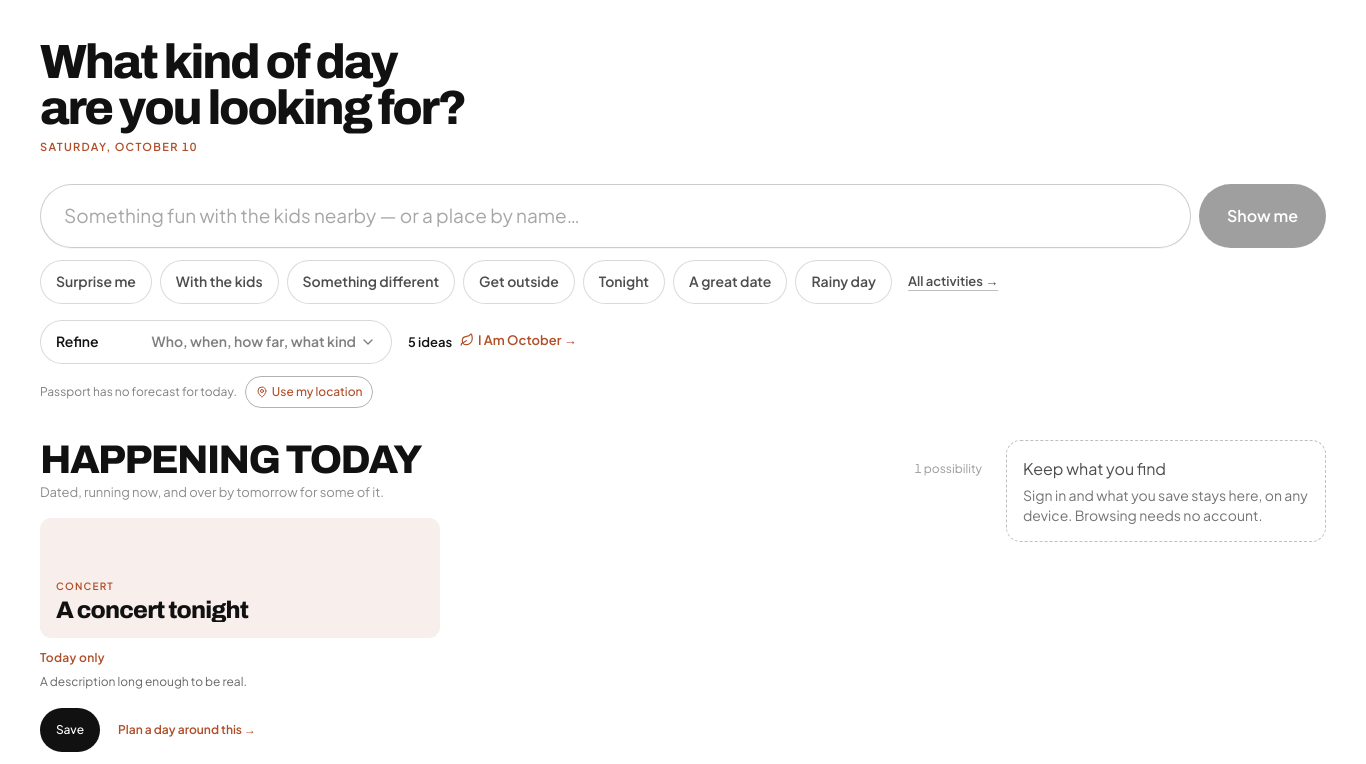
Test: what must not have changed › still finds a place by name — in the one box, answered by name
Type "Kalamoir" into the field with test id "ask-input" at x=616, y=216, box [40,184,1191,248]
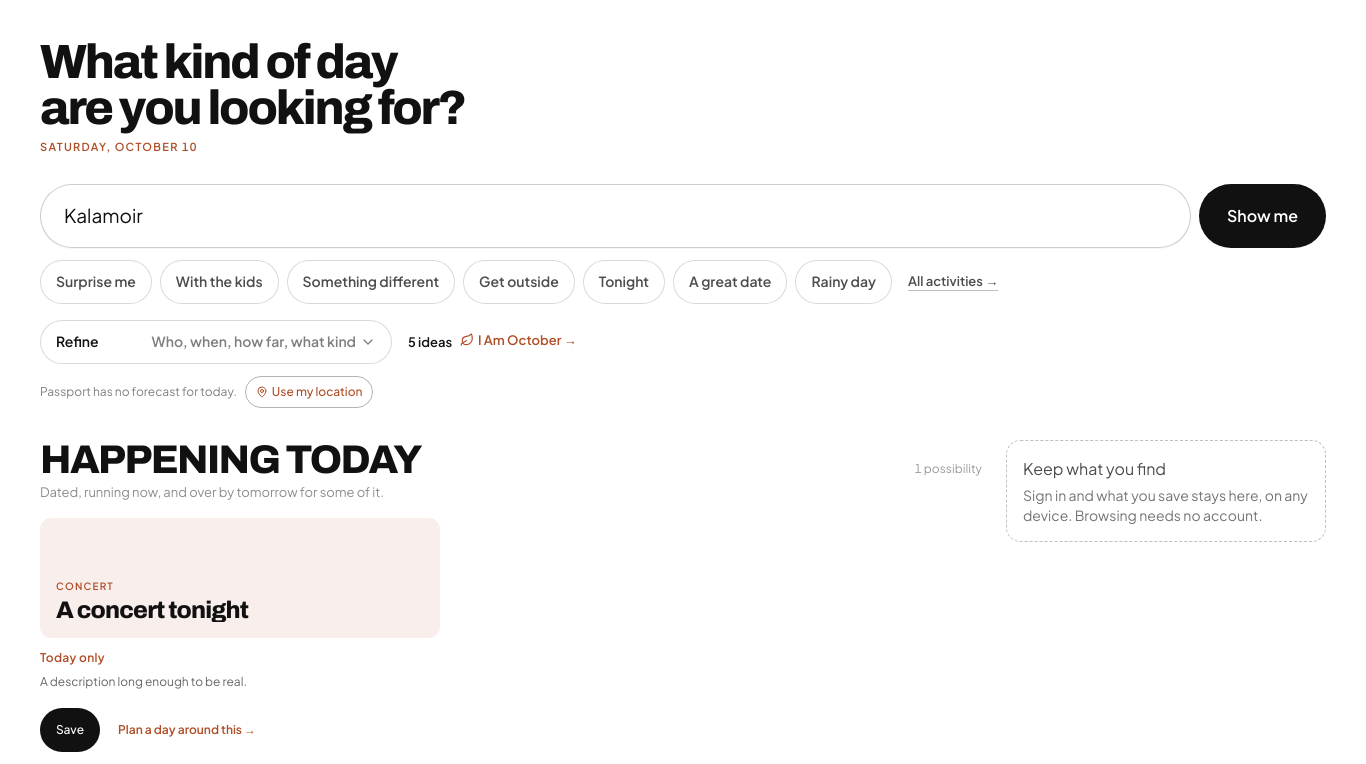
Click the button with test id "ask-submit" at x=1262, y=216, box [1199,184,1326,248]
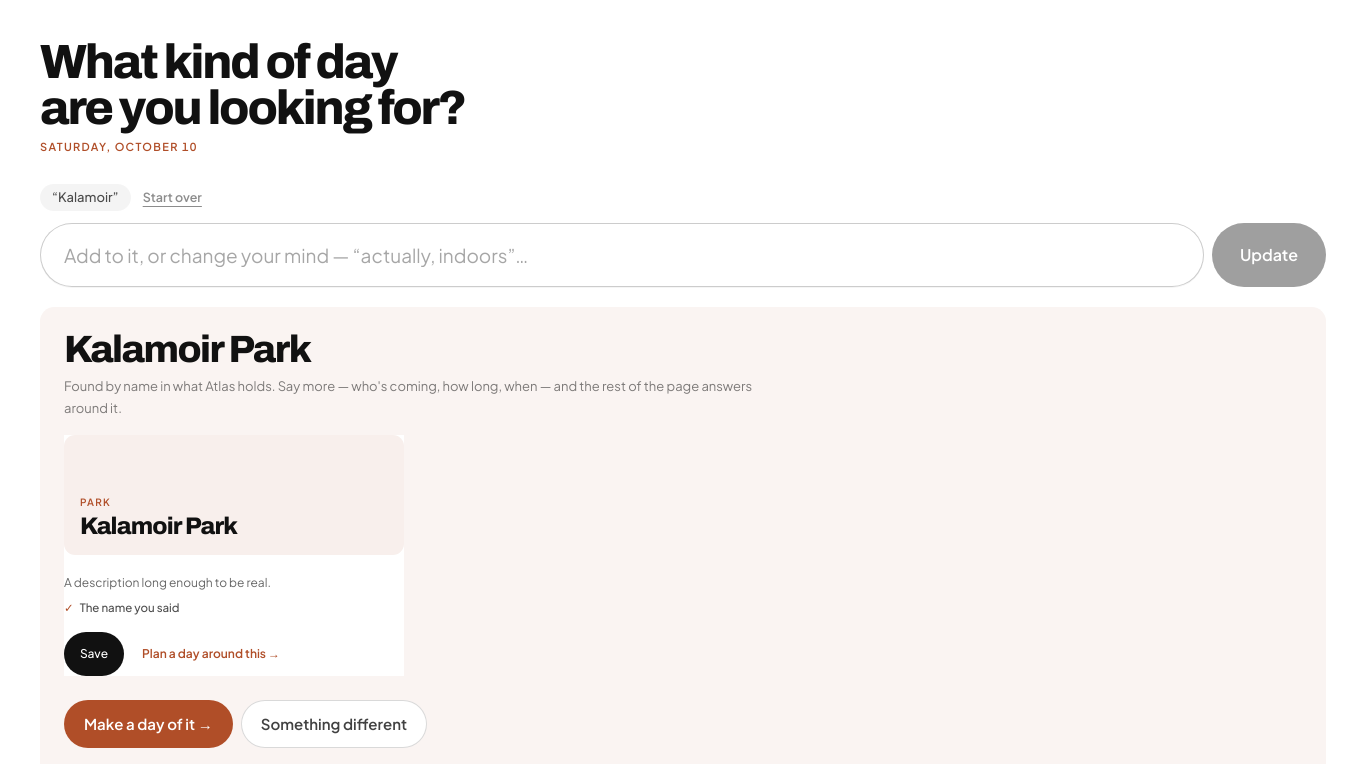
Expected: the heading with test id "ask-heading" reads "Kalamoir Park", [64,329,310,370]
Expected: the list item with test id "possibility" shows "The name you said", [80,600,180,615]
